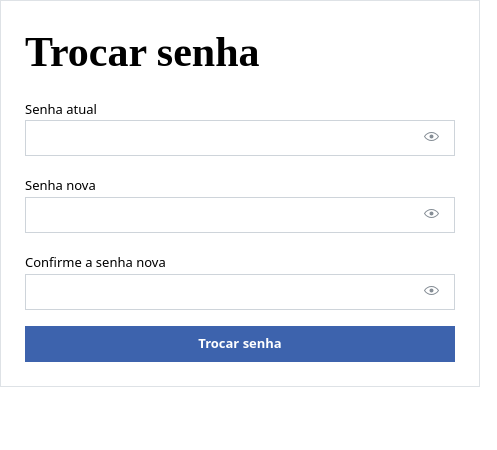
Test case: the comfort validation, which the server does again › an empty form names each missing field
Click the button "Trocar senha": {"x": 240, "y": 344} [25,326,455,362]
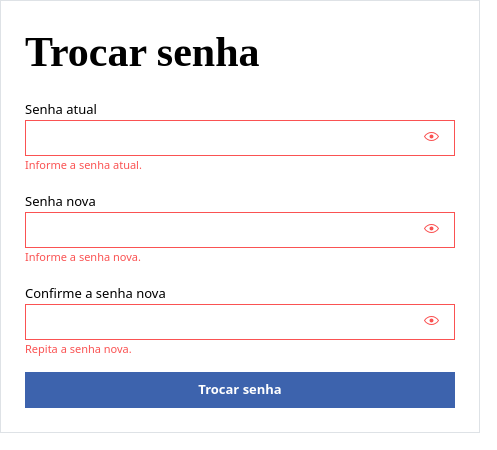
Expected: the text "Informe a senha atual." is shown, [25,157,142,172]
Expected: the text "Informe a senha nova." is shown, [25,249,141,264]
Expected: the text "Repita a senha nova." is shown, [25,341,132,356]
